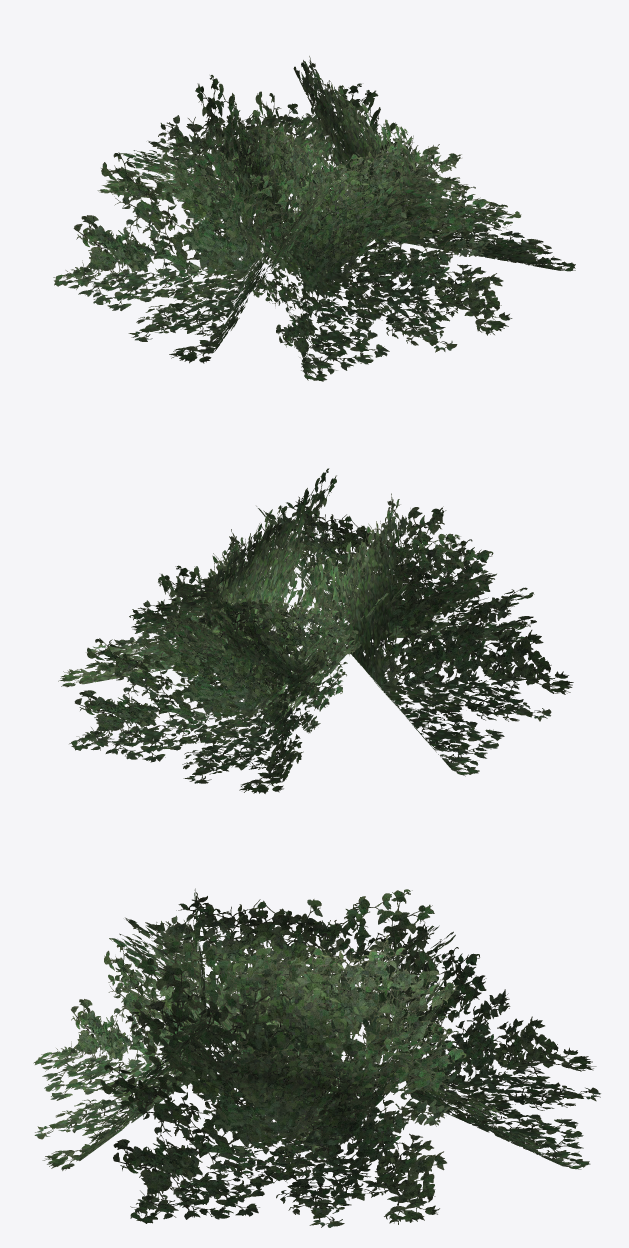
File: shrb_giantlickbush_a2_l2.fbx
3 views of the same model, one above another, from view 1: azimuth 30°, elevation 25°; view 2: azimuth 150°, elevation 25°; view 3: azimuth 270°, elevation 25° (orthographic). The views are drawn at different scales.
Visible parts, largest first — view 1: mesh_node; view 2: mesh_node; view 3: mesh_node.
Boxes of the visible parts, x1,y1,x2,y2 form: mesh_node: [53, 56, 575, 381]; mesh_node: [58, 468, 573, 793]; mesh_node: [33, 888, 600, 1227].
Bounding box in the file's own units: 4.78 × 2.24 × 4.85.
1 material, 1 textured.
